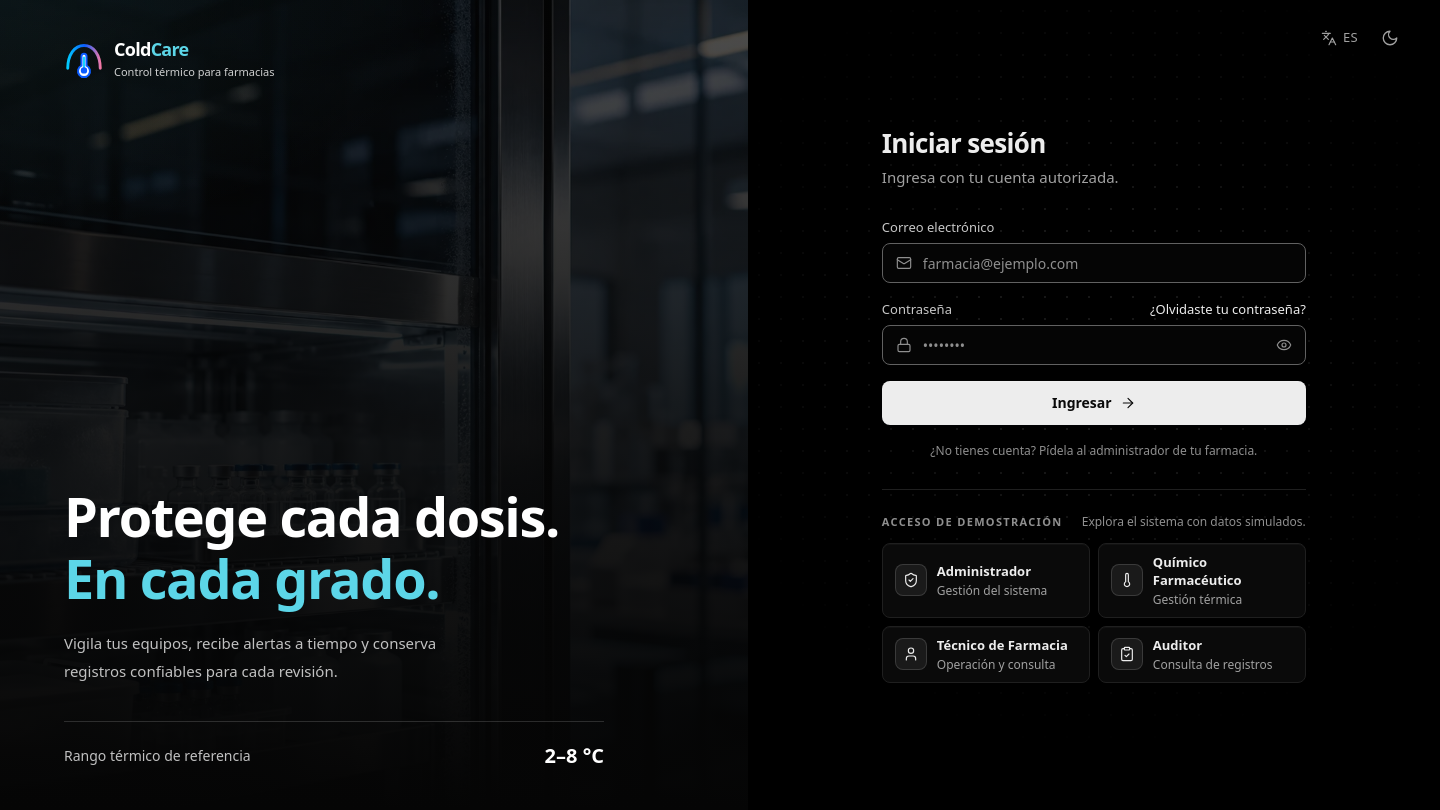
LoginPage › rechaza formato de correo inválido
Type "correo-invalido" into the field labelled "Correo electrónico". click: point(1094, 263)
box: [882,243,1306,283]
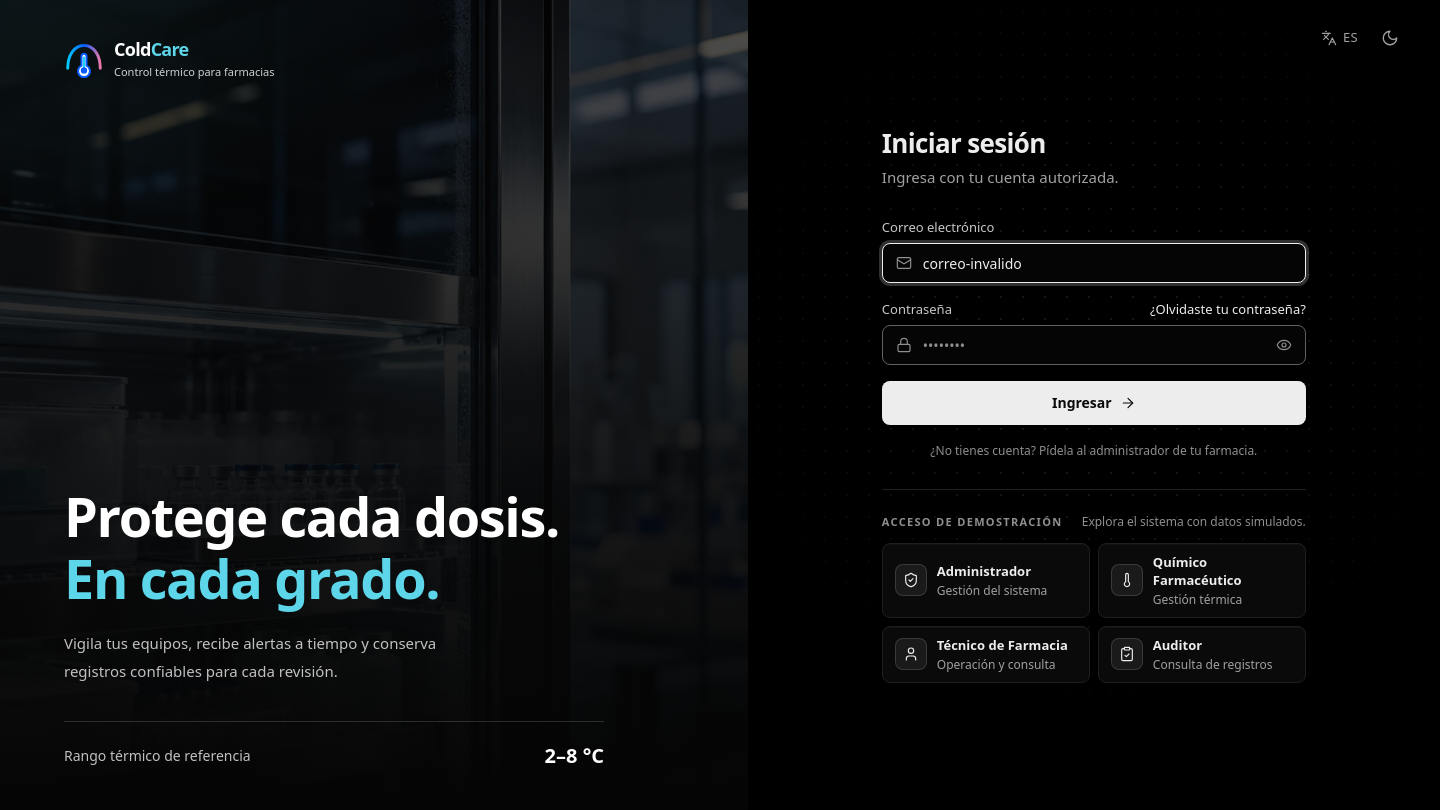
Type "Secreta-2026" into the password field labelled "Contraseña". click: point(1094, 345)
box: [882,325,1306,365]
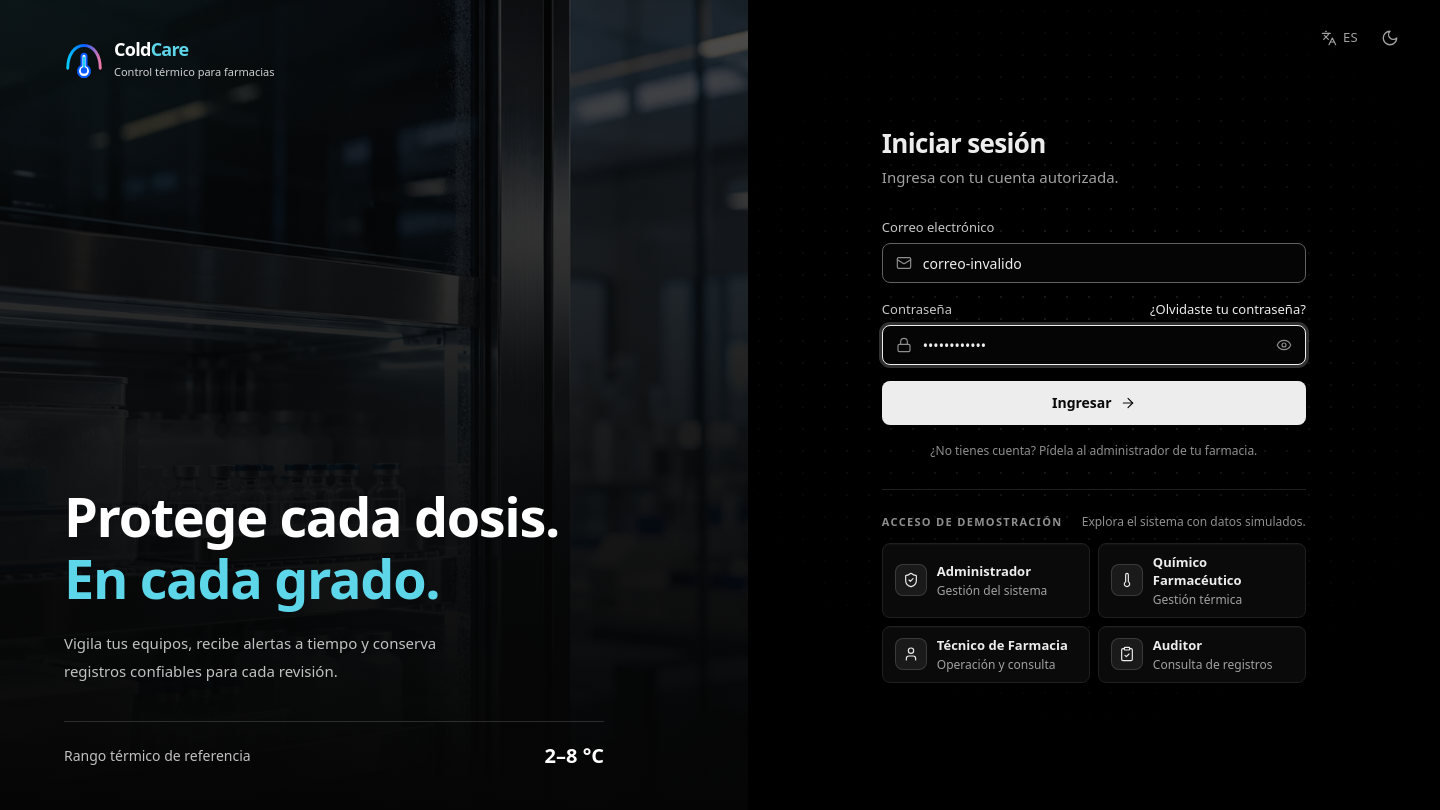
Click the button "Ingresar". click: point(1094, 403)
box: [882,381,1306,425]
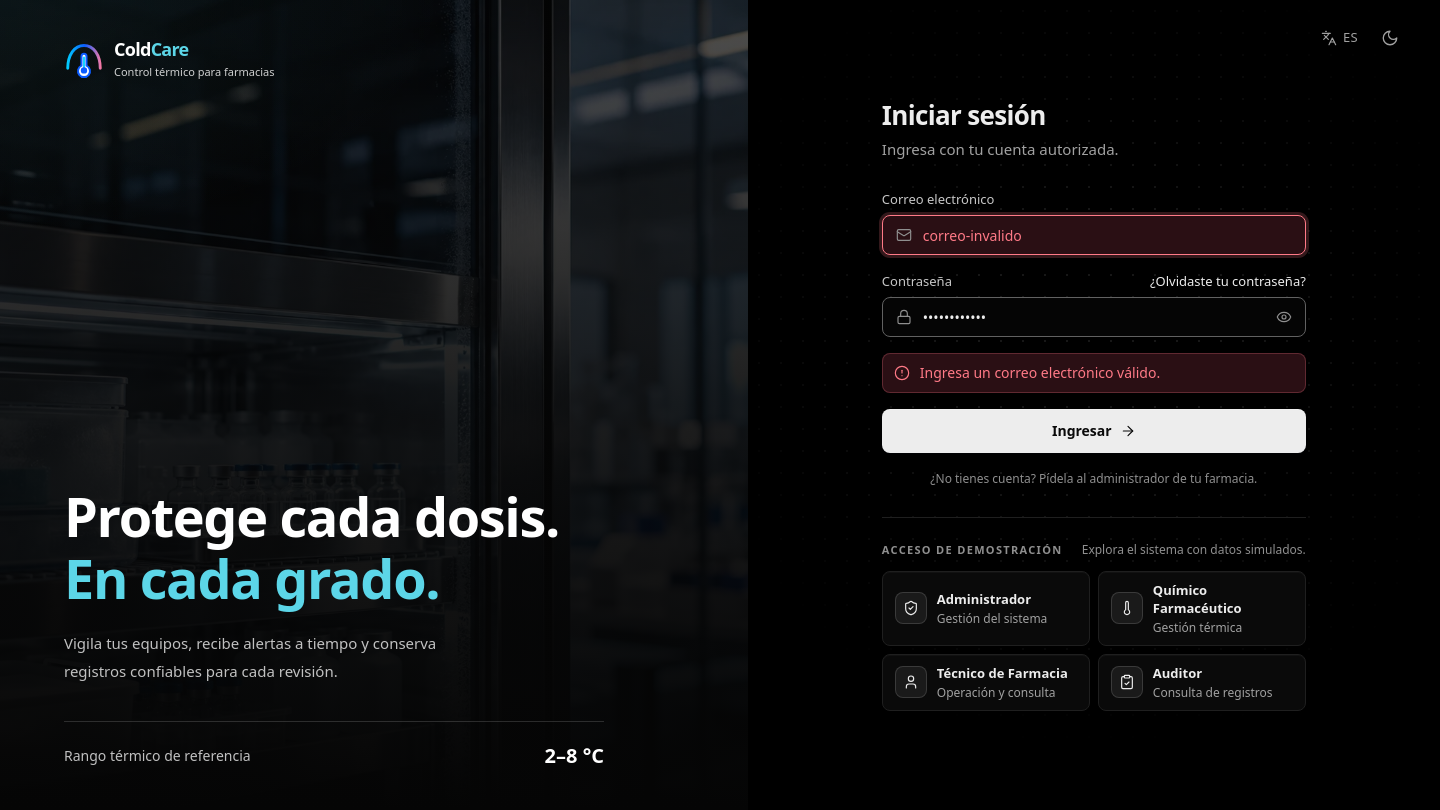
Result: the message reads "Ingresa un correo electrónico válido." at [920,363,1160,382]
